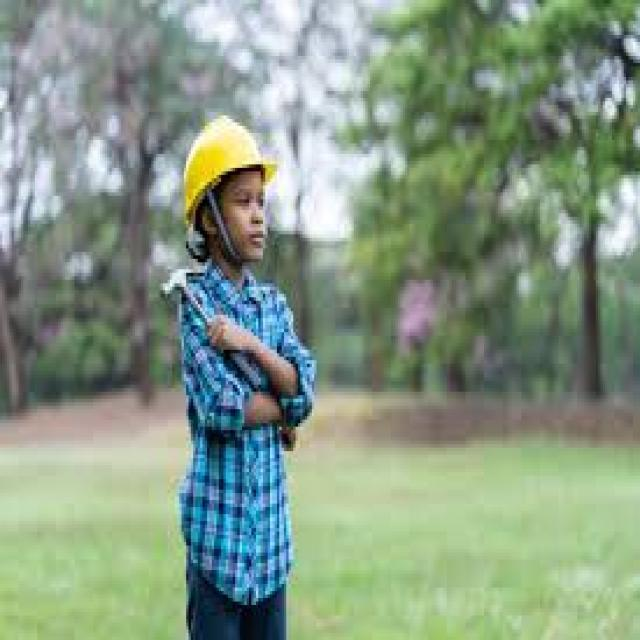hammer: (154, 247, 264, 401)
